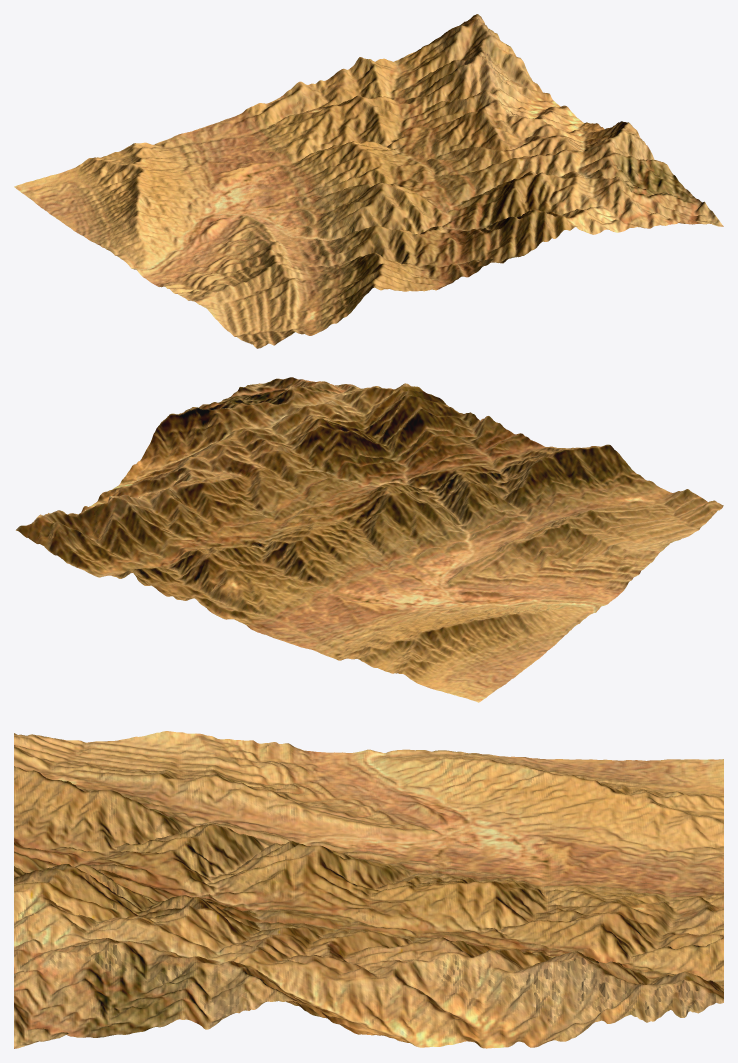
File: takur_ghar_2002.glb
3 renders of one model, top to bottom at view 1: azimuth 30°, elevation 25°; view 2: azimuth 150°, elevation 25°; view 3: azimuth 270°, elevation 25°, orthographic. The views are drawn at different scales.
Visible parts, largest first — view 1: geometry_0; view 2: geometry_0; view 3: geometry_0.
Part boxes in pixels (bbox=[...]): geometry_0: bbox=[14, 14, 723, 348]; geometry_0: bbox=[16, 377, 723, 702]; geometry_0: bbox=[14, 731, 723, 1048].
Size of the model in its own units: 12063 by 1784 by 11027.
1 material, 1 textured.
